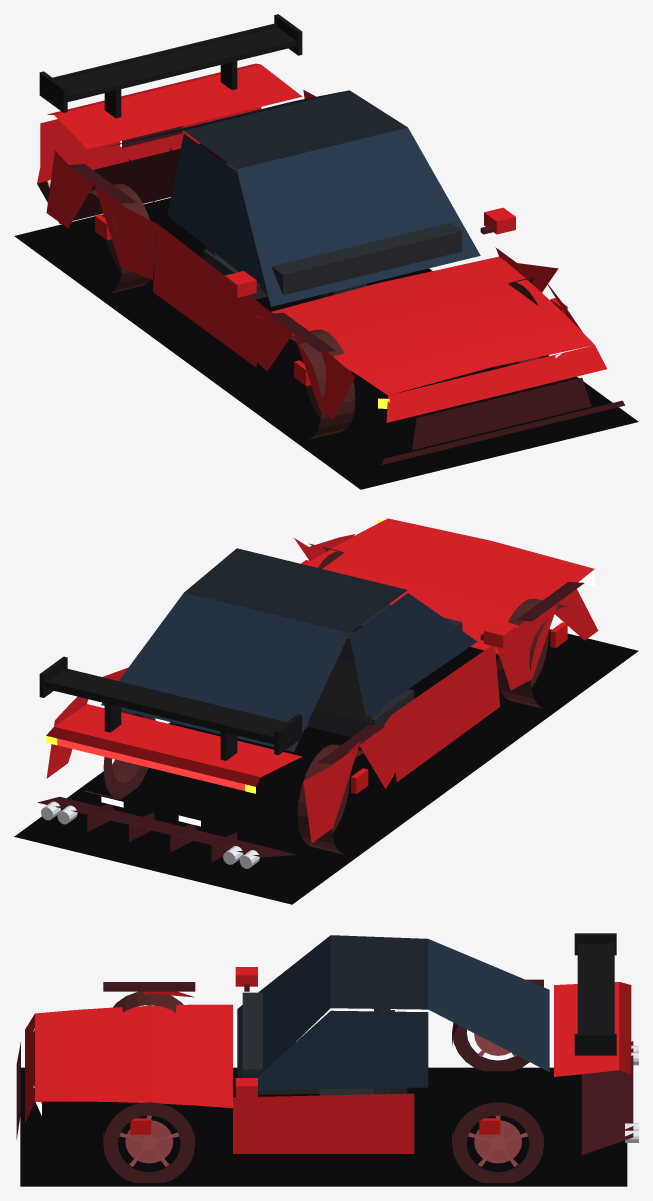
File: apex_gt_sports_coupe_lod0.glb
The picture shows the model from 3 angles, top to bottom: view 1: azimuth 30°, elevation 25°; view 2: azimuth 150°, elevation 25°; view 3: azimuth 270°, elevation 25°; orthographic projection. The views are drawn at different scales.
Visible parts, largest first — view 1: Chassis, Glass, ContactShadow, Spoiler, Interior, Wheel_FL, Wheel_RL; view 2: Chassis, ContactShadow, Glass, Spoiler, Interior, Wheel_FL, Wheel_RL, Wheel_RR, BrakeLights, Exhaust; view 3: Chassis, ContactShadow, Glass, Wheel_FR, Wheel_RR, Spoiler, Interior, Wheel_RL, Wheel_FL, Exhaust.
Boxes of the visible parts, x1=… form: Chassis: x1=37, y1=63, x2=624, y2=464; Glass: x1=104, y1=90, x2=480, y2=306; ContactShadow: x1=14, y1=198, x2=638, y2=489; Spoiler: x1=39, y1=14, x2=302, y2=118; Interior: x1=203, y1=163, x2=462, y2=299; Wheel_FL: x1=283, y1=329, x2=355, y2=439; Wheel_RL: x1=90, y1=184, x2=155, y2=293; Chassis: x1=37, y1=518, x2=598, y2=861; ContactShadow: x1=14, y1=629, x2=638, y2=904; Glass: x1=101, y1=548, x2=477, y2=751; Spoiler: x1=39, y1=656, x2=302, y2=760; Interior: x1=304, y1=604, x2=462, y2=737; Wheel_FL: x1=497, y1=598, x2=569, y2=708; Wheel_RL: x1=297, y1=744, x2=368, y2=854; Wheel_RR: x1=84, y1=707, x2=155, y2=799; BrakeLights: x1=57, y1=738, x2=244, y2=790; Exhaust: x1=41, y1=801, x2=259, y2=868; Chassis: x1=16, y1=967, x2=633, y2=1154; ContactShadow: x1=20, y1=1067, x2=627, y2=1186; Glass: x1=237, y1=935, x2=549, y2=1089; Wheel_FR: x1=103, y1=1102, x2=195, y2=1182; Wheel_RR: x1=452, y1=1102, x2=543, y2=1182; Spoiler: x1=574, y1=933, x2=616, y2=1055; Interior: x1=242, y1=992, x2=407, y2=1095; Wheel_RL: x1=452, y1=1022, x2=529, y2=1071; Wheel_FL: x1=113, y1=991, x2=183, y2=1012; Exhaust: x1=625, y1=1045, x2=638, y2=1142.
Bounding box in the file's own units: 2.02 × 1.25 × 4.48.
